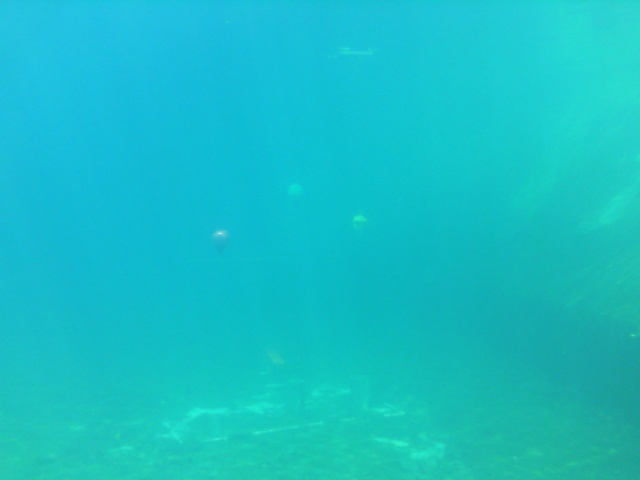buoy_green: (284, 182, 303, 205)
buoy_red: (210, 226, 231, 257)
buoy_yellow: (351, 213, 368, 235)
